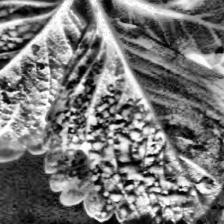Angular Leafspot: (41, 8, 224, 224), (0, 0, 89, 162), (94, 0, 223, 96)
